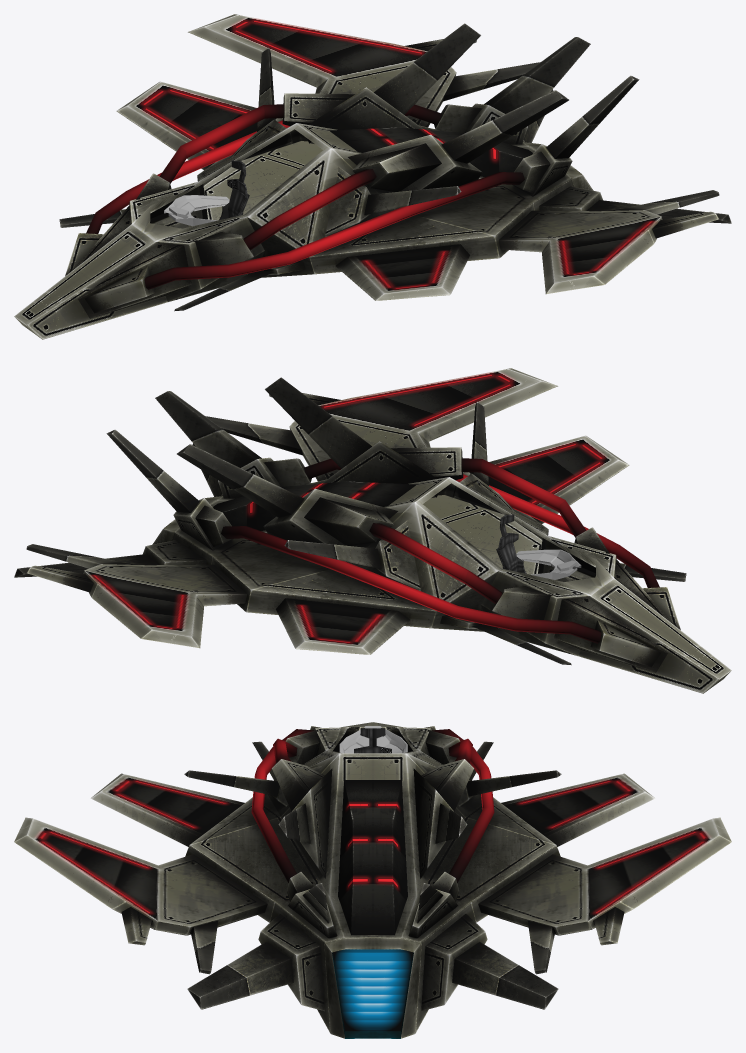
The model's file is Ship+Dasboard+Chair.fbx.
3 renders of one model, top to bottom at view 1: azimuth 30°, elevation 25°; view 2: azimuth 150°, elevation 25°; view 3: azimuth 270°, elevation 25°, orthographic. The views are drawn at different scales.
Visible parts, largest first — view 1: polySurface29, polySurface58, polySurface38, polySurface55, polySurface35, polySurface31, polySurface59, polySurface39, polySurface54, polySurface65, polySurface40, polySurface45 (+24 smaller); view 2: polySurface29, polySurface38, polySurface58, polySurface35, polySurface55, polySurface51, polySurface39, polySurface59, polySurface34, polySurface45, polySurface60, polySurface65 (+24 smaller); view 3: polySurface29, polySurface38, polySurface58, polySurface35, polySurface55, polySurface33, polySurface53, polySurface44, polySurface64, polySurface45, polySurface65, polySurface31 (+18 smaller).
Part boxes in pixels (<box>): polySurface29: <box>14,118,593,339</box>; polySurface58: <box>188,14,456,127</box>; polySurface38: <box>499,210,662,294</box>; polySurface55: <box>116,81,276,177</box>; polySurface35: <box>335,244,469,300</box>; polySurface31: <box>144,172,524,289</box>; polySurface59: <box>374,23,480,114</box>; polySurface39: <box>441,90,568,163</box>; polySurface54: <box>484,37,590,113</box>; polySurface65: <box>307,87,423,143</box>; polySurface40: <box>352,143,441,191</box>; polySurface45: <box>348,134,482,192</box>; polySurface29: <box>152,472,731,693</box>; polySurface38: <box>289,368,557,481</box>; polySurface58: <box>83,564,246,648</box>; polySurface35: <box>469,435,629,531</box>; polySurface55: <box>276,598,410,654</box>; polySurface51: <box>221,526,601,643</box>; polySurface39: <box>265,377,371,468</box>; polySurface59: <box>177,444,304,517</box>; polySurface34: <box>155,391,261,467</box>; polySurface45: <box>322,441,438,497</box>; polySurface60: <box>304,497,393,545</box>; polySurface65: <box>263,488,397,546</box>; polySurface29: <box>185,722,560,1038</box>; polySurface38: <box>14,817,267,935</box>; polySurface58: <box>478,817,731,935</box>; polySurface35: <box>90,773,244,846</box>; polySurface55: <box>501,773,655,846</box>; polySurface33: <box>187,942,293,1009</box>; polySurface53: <box>452,942,558,1009</box>; polySurface44: <box>258,914,324,1011</box>; polySurface64: <box>421,914,487,1011</box>; polySurface45: <box>292,768,332,878</box>; polySurface65: <box>413,768,453,878</box>; polySurface31: <box>251,729,313,882</box>.
Bounding box in the file's own units: 168 × 49.28 × 173.
